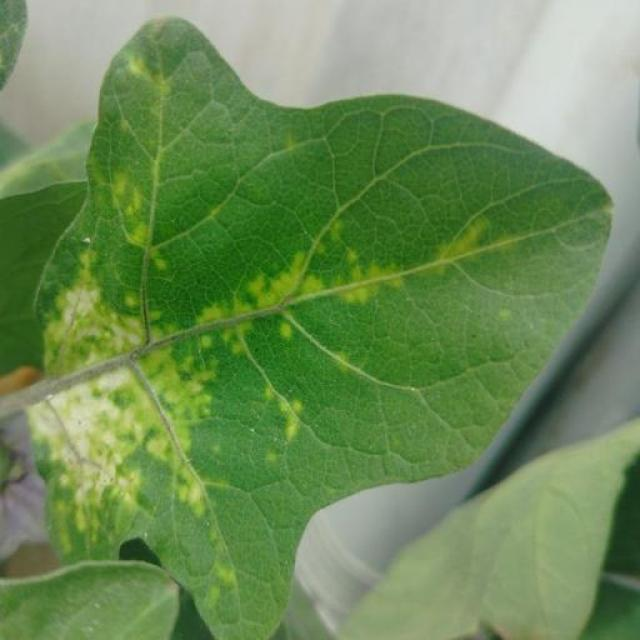leaf_spot: (135, 388, 259, 532), (27, 382, 157, 502), (46, 274, 143, 365), (257, 252, 391, 312), (163, 293, 234, 399), (44, 449, 129, 536), (432, 214, 540, 282), (216, 285, 318, 349), (103, 174, 166, 271), (240, 367, 317, 446), (125, 53, 186, 113), (193, 551, 250, 613), (64, 234, 121, 292), (192, 181, 233, 230), (315, 341, 379, 371), (259, 130, 318, 160), (318, 214, 368, 246)
